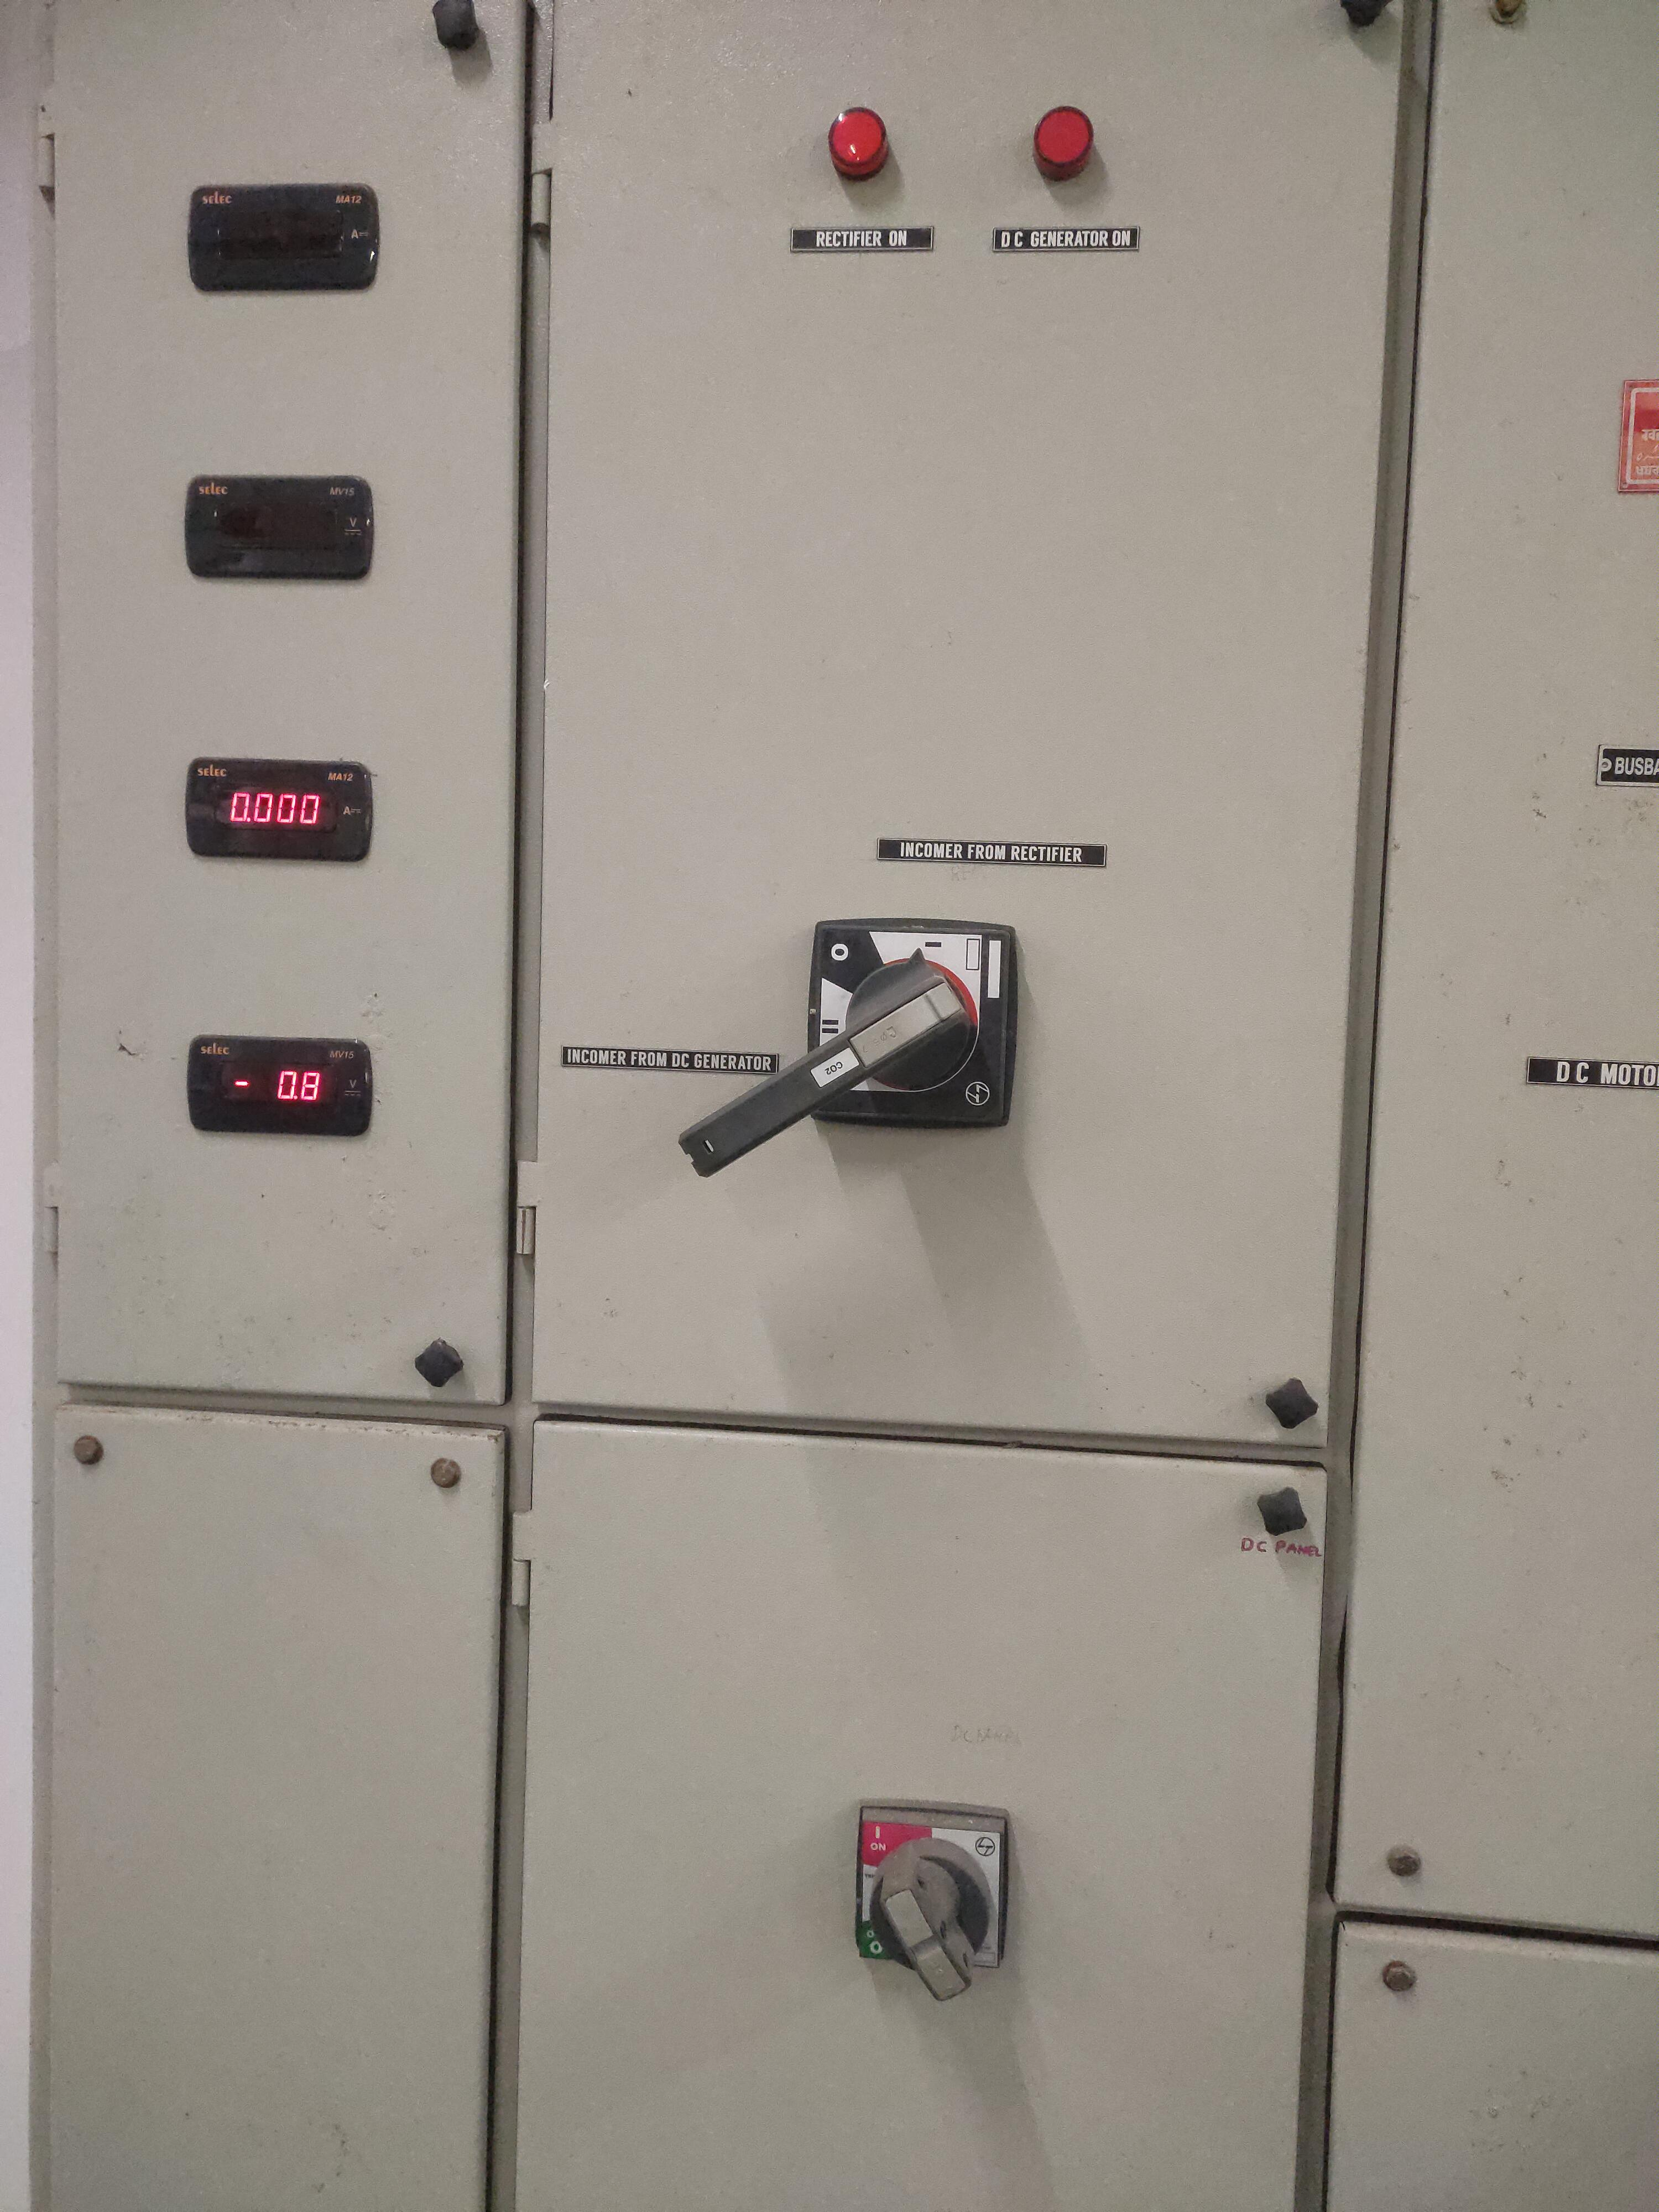Knob 1: (653, 867, 1054, 1261)
Knob 2: (803, 1749, 1046, 2022)
Light Indications: (786, 70, 1129, 282)
